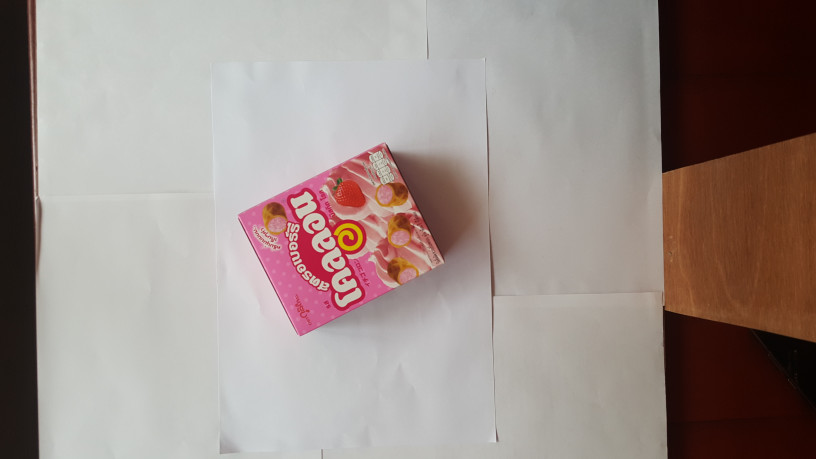collon-strawberry: (234, 142, 447, 338)
